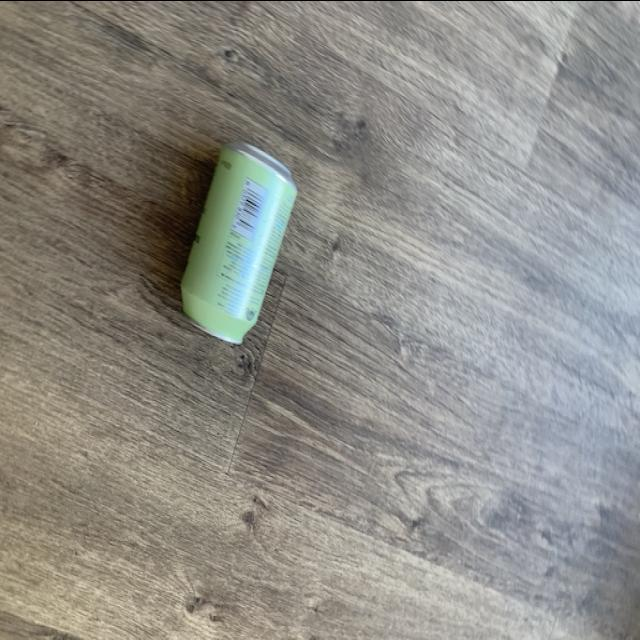litter: (172, 136, 296, 344)
